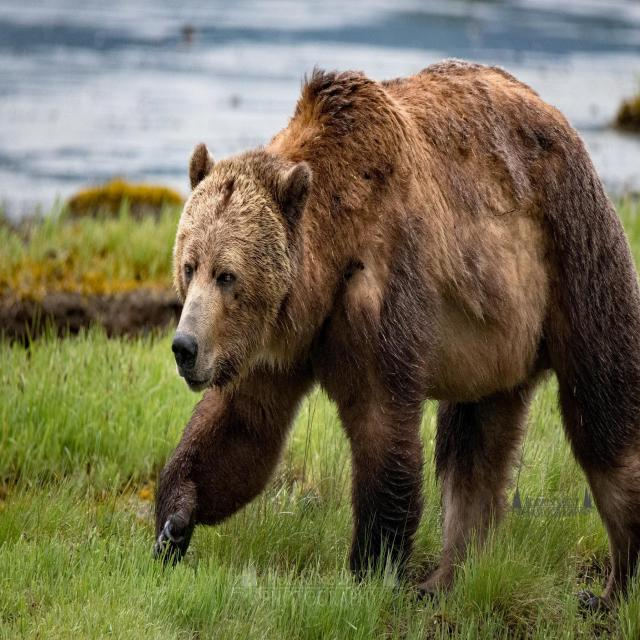Bear: (152, 60, 640, 602)
